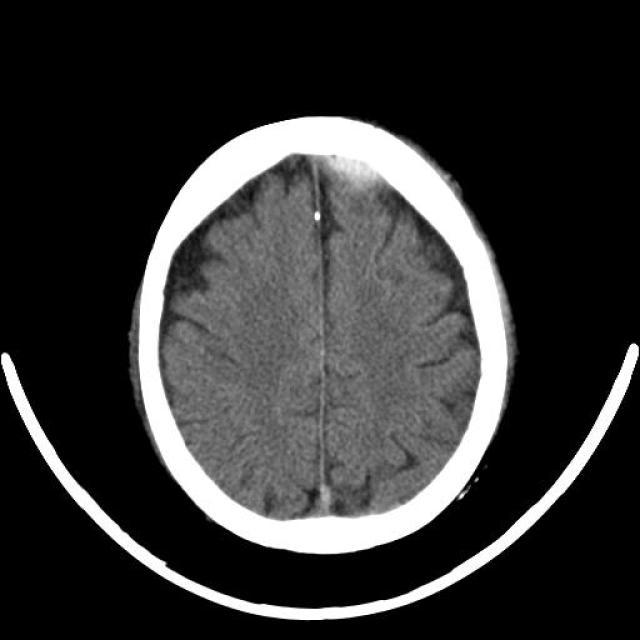Subdural: (300, 110, 395, 215)
